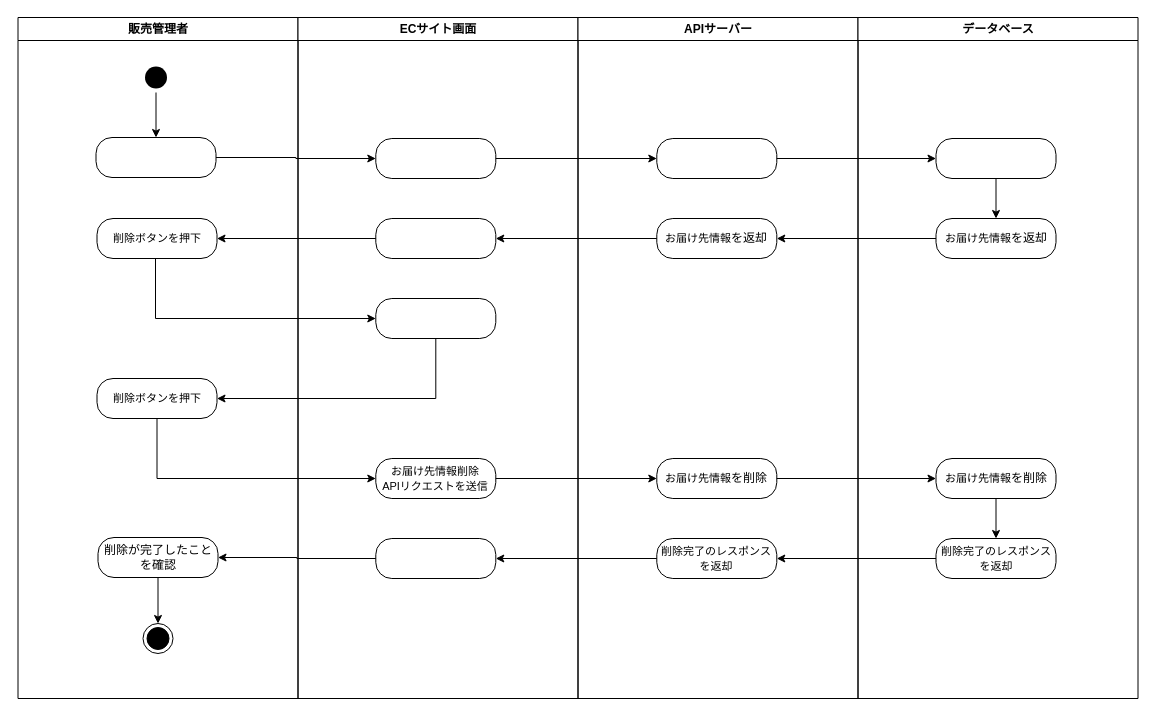
This 1155x716 diagram has some shape labels left out. Here are the shapes that lost their labels. From the top down, the centre of each, then its label:
At (x=155, y=157): "お届け先情報画面に アクセス".
At (x=435, y=158): "お届け先情報 取得 APIリクエストを送信".
At (x=716, y=158): "お届け先情報 を取得".
At (x=995, y=158): "お届け先情報 を検索".
At (x=435, y=238): "お届け先情報 画面を 表示".
At (x=435, y=318): "お届け先情報 編削除 ダイアログ を 表示".
At (x=435, y=558): "お届け先情報 画面 に 削除完了の メッセージ を表示".
